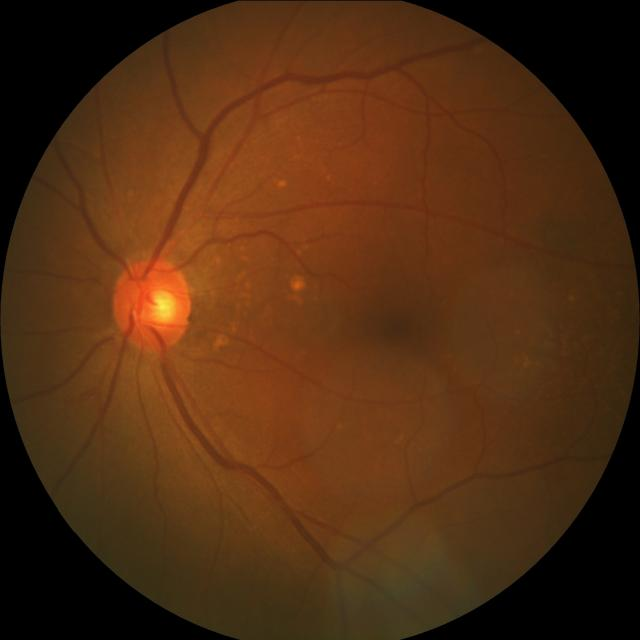OC: (148, 288, 178, 324)
OD: (114, 256, 194, 350)
